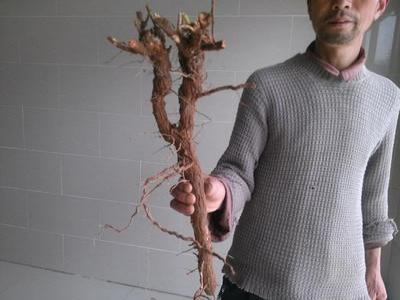Root: (109, 9, 224, 294)
